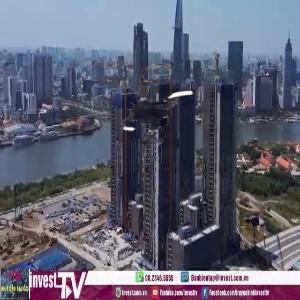drone: (113, 63, 214, 164)
